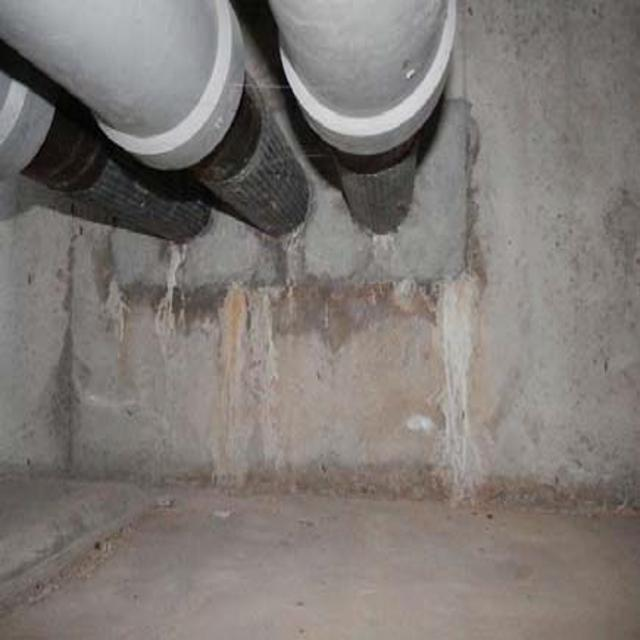freelime: (197, 284, 290, 496), (426, 269, 497, 514)
